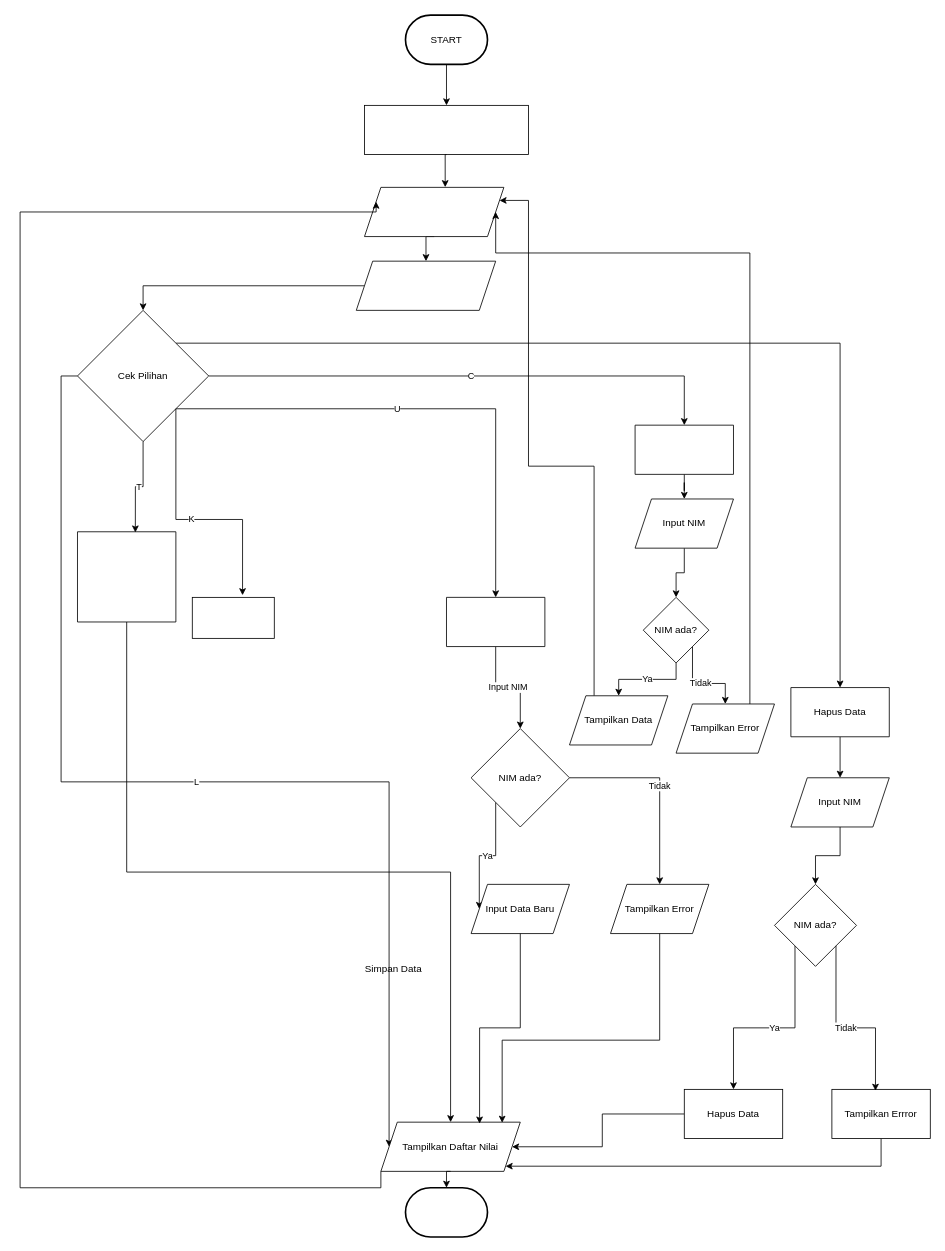
This 945x1251 diagram has some shape labels left out. The shapes that lost their labels are listed below. From the top down, each one's centre as x and y in pixels, then its label:
At (x=446, y=130): "Inisialisasi Class DataNilai".
At (x=434, y=212): "Tampilkan menu utama".
At (x=425, y=285): "Input Pilihan".
At (x=683, y=449): "Cari Data".
At (x=126, y=576): "Input Data Baru [NIM NAMA NILAI (TUGAS,UTS,UAS)]".
At (x=232, y=617): "Selesai".
At (x=495, y=622): "Ubah Data".
At (x=446, y=1212): "END".
